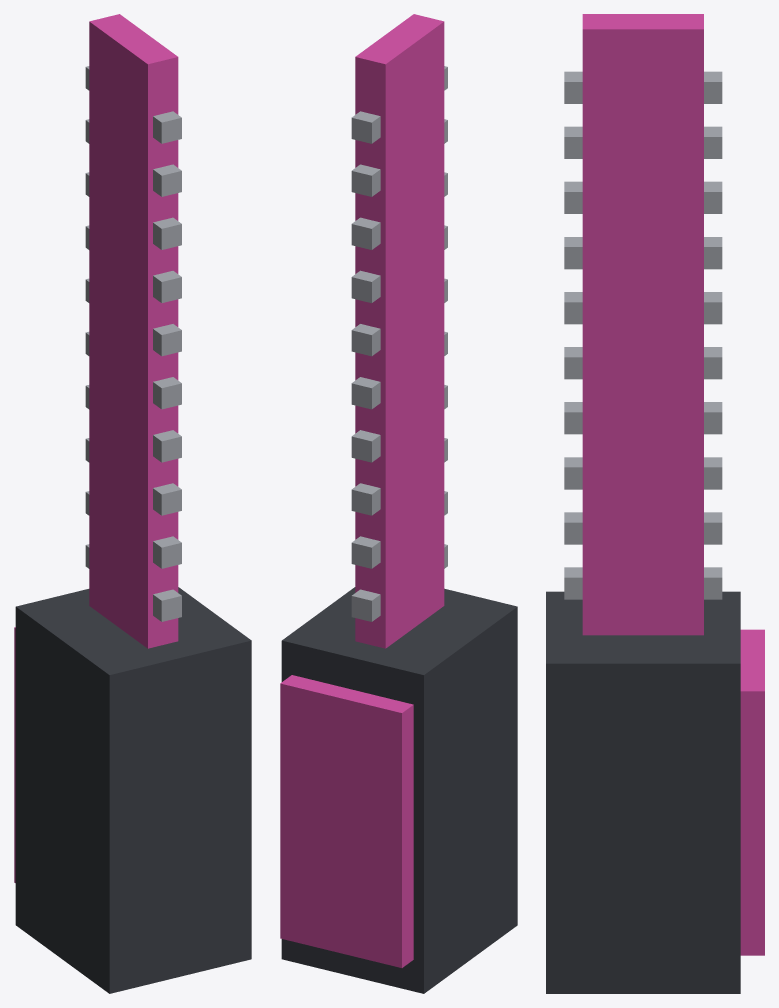
Rendered from orichalcum_chainsaw.glb.
3 views of the same model, side by side, from view 1: azimuth 30°, elevation 25°; view 2: azimuth 150°, elevation 25°; view 3: azimuth 270°, elevation 25° (orthographic). The views are drawn at different scales.
Parts seen in each view (by area): view 1: orichalcum_chainsaw_v0; view 2: orichalcum_chainsaw_v0; view 3: orichalcum_chainsaw_v0.
Boxes of the visible parts, x1,y1,x2,y2 form: orichalcum_chainsaw_v0: (14, 14, 251, 993); orichalcum_chainsaw_v0: (280, 14, 517, 993); orichalcum_chainsaw_v0: (546, 14, 764, 993).
Bounding box in the file's own units: 0.14 × 0.85 × 0.18.
